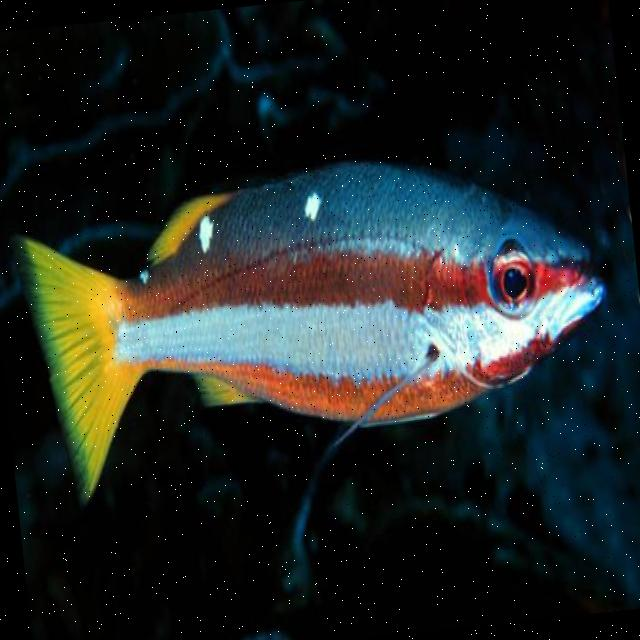ikan: (6, 130, 624, 509)
